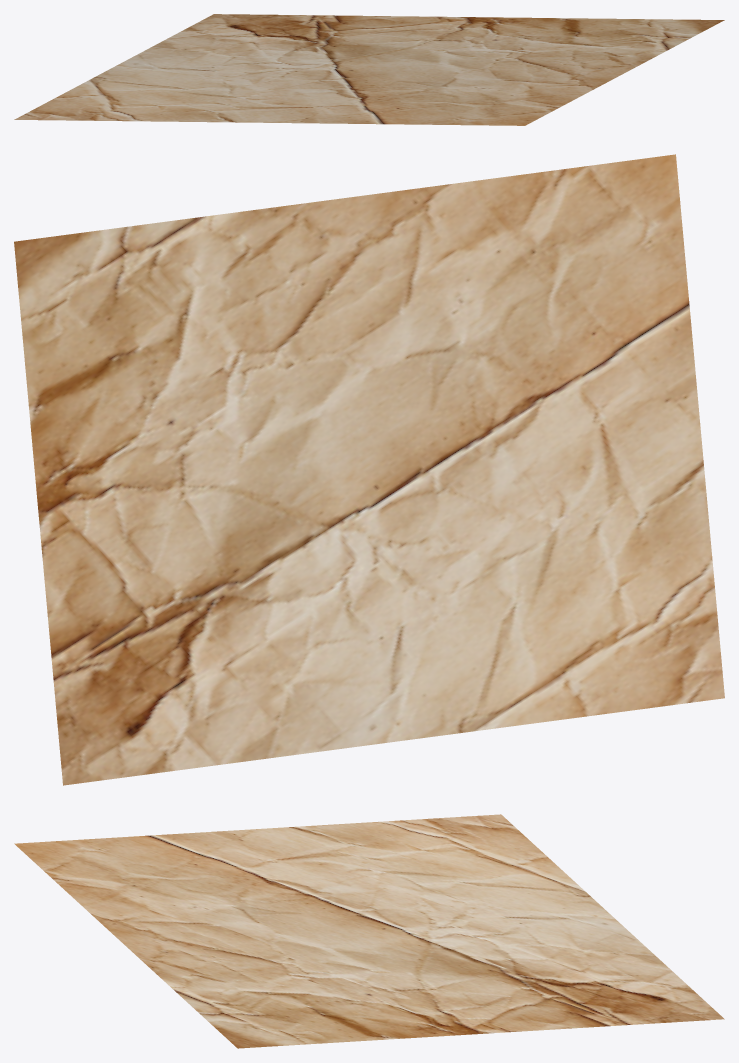
The model's file is запискаВГоршке.glb.
3 views of the same model, one above another, from view 1: azimuth 30°, elevation 25°; view 2: azimuth 150°, elevation 25°; view 3: azimuth 270°, elevation 25° (orthographic). The views are drawn at different scales.
Parts seen in each view (by area): view 1: записка; view 2: записка; view 3: записка.
Part boxes in pixels (<box>): записка: <box>14,14,724,125</box>; записка: <box>14,154,724,785</box>; записка: <box>14,814,724,1048</box>.
Size of the model in its own units: 0.0821 by 0.0208 by 0.0857.
Materials: 1 (1 with a texture image).
